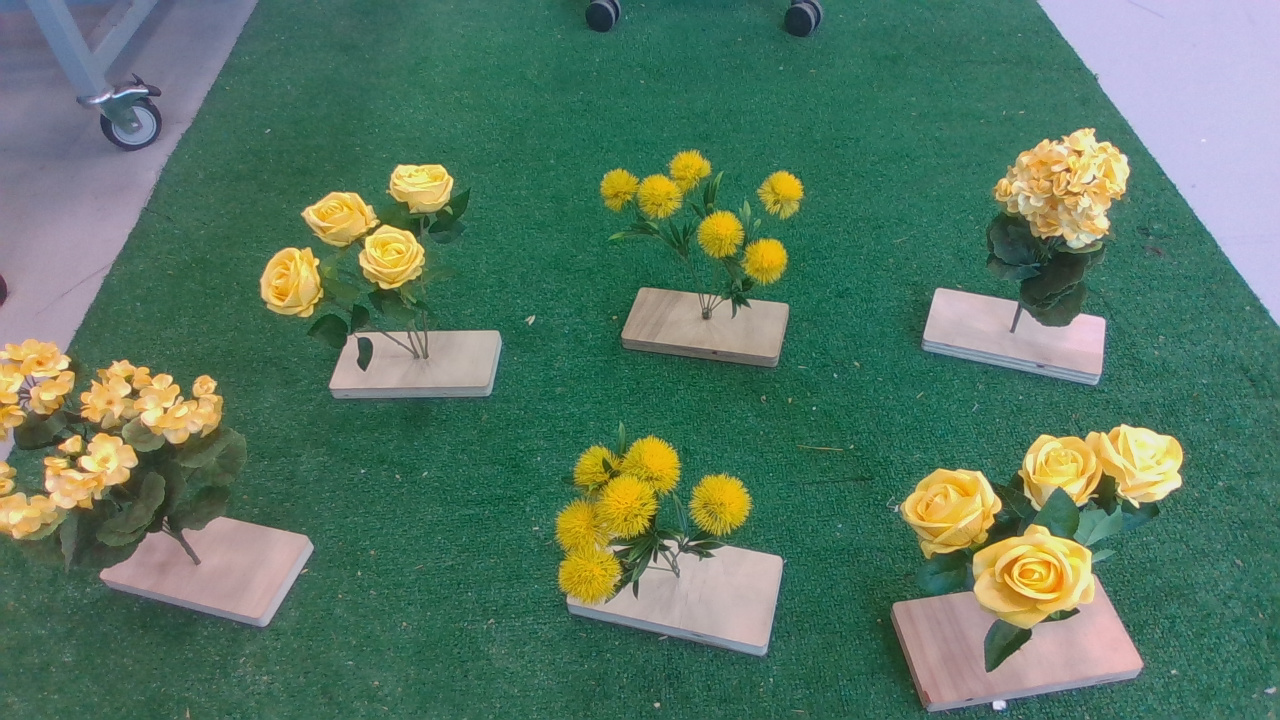dandelion: (554, 424, 764, 619), (592, 151, 814, 305)
geranium: (3, 332, 241, 575), (984, 127, 1141, 335)
rose: (896, 426, 1199, 683), (255, 161, 487, 362)
